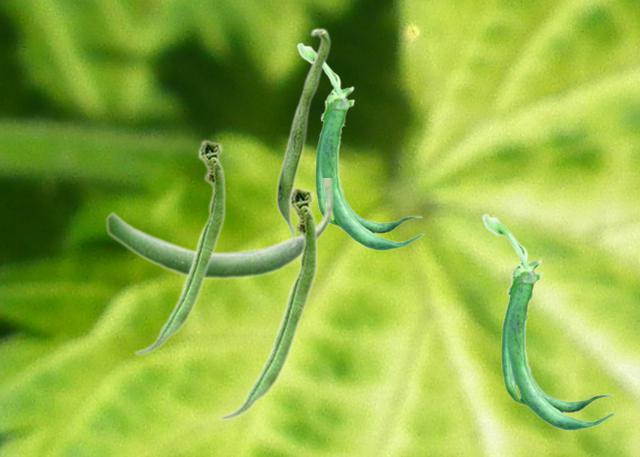french_bean: (481, 213, 614, 430), (296, 42, 423, 250), (218, 185, 317, 420), (105, 178, 333, 280), (133, 138, 225, 355), (275, 27, 330, 248)
